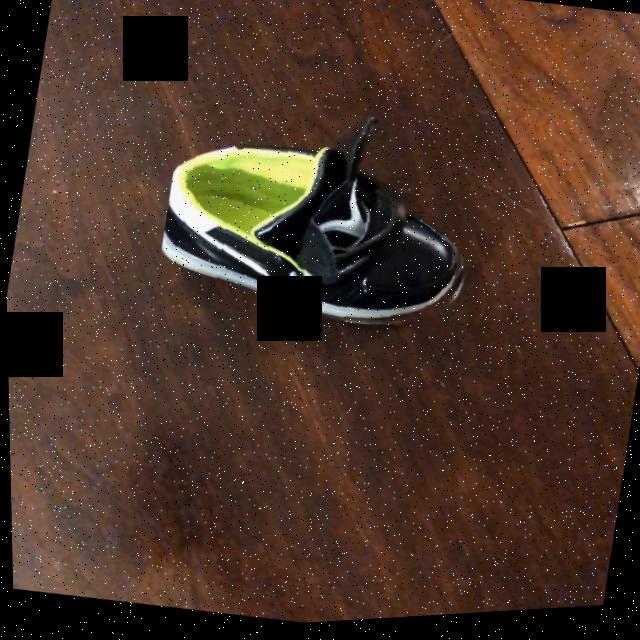shoe: (160, 123, 460, 328)
